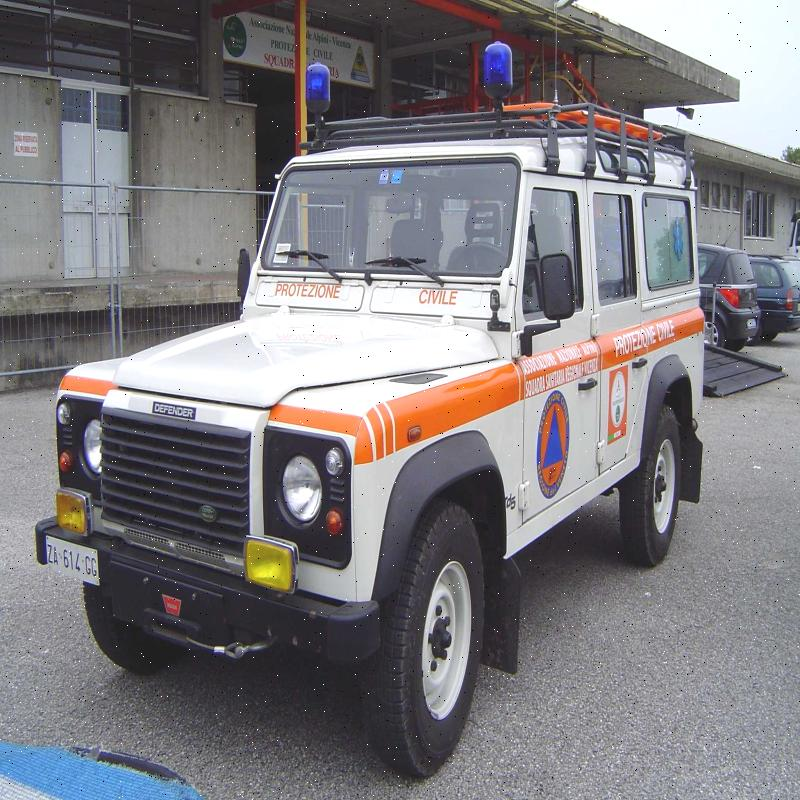AmbulanceSiren: (292, 62, 368, 143), (473, 35, 539, 126)
